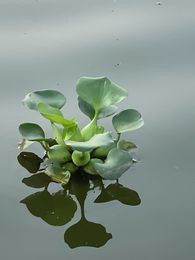water_hyacinth: (14, 68, 147, 196)
